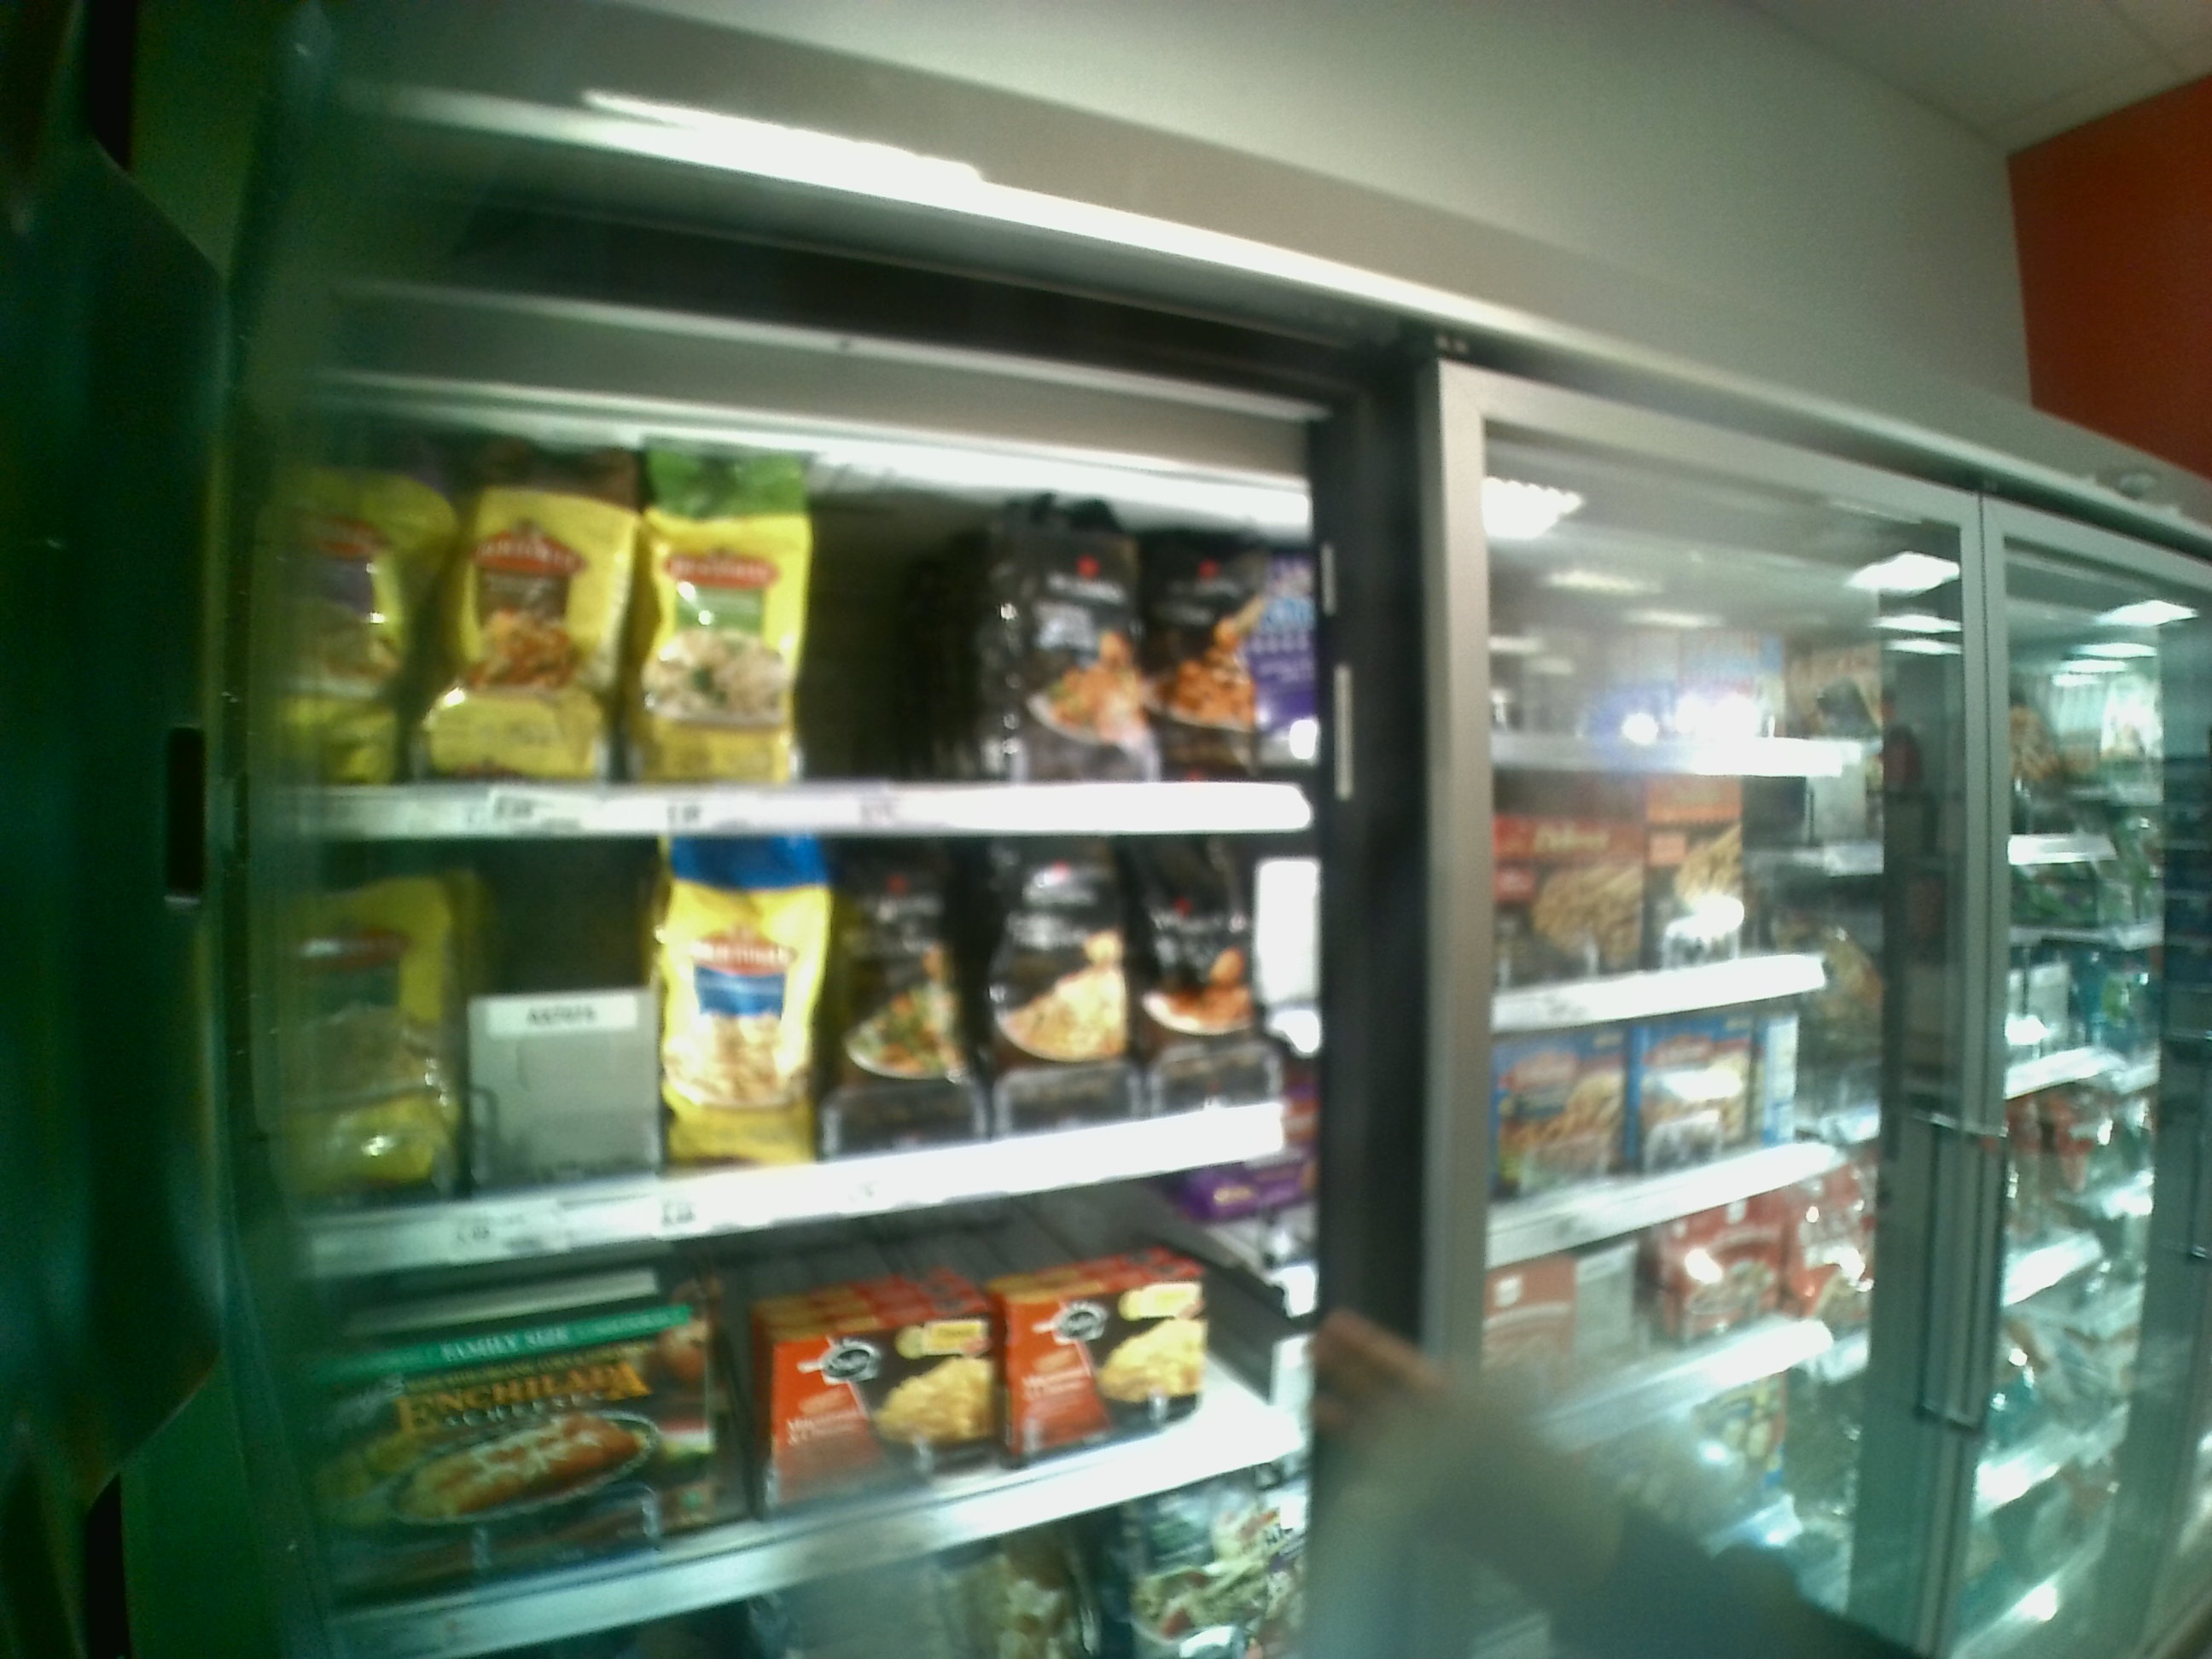shelf: (268, 394, 1322, 836), (270, 840, 1343, 1244)
